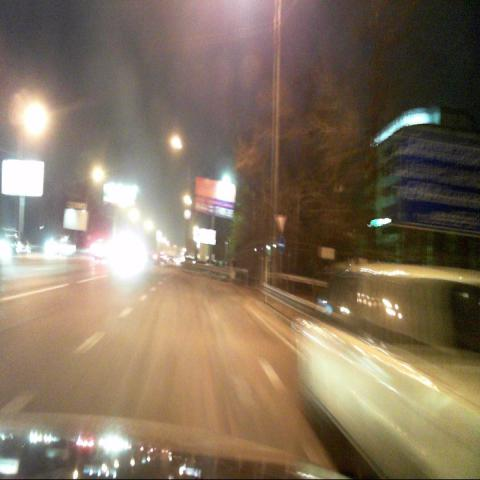2_4: (274, 214, 286, 236)
